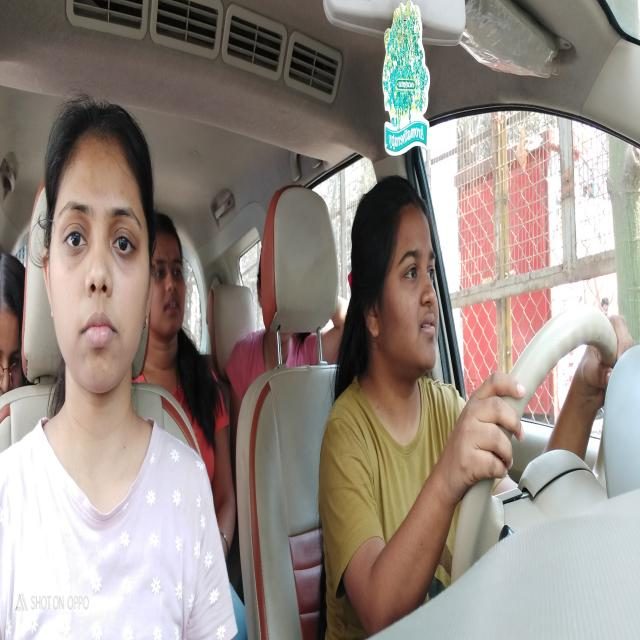person: (52, 137, 151, 390), (368, 190, 441, 368), (151, 226, 189, 344), (0, 271, 26, 384)
